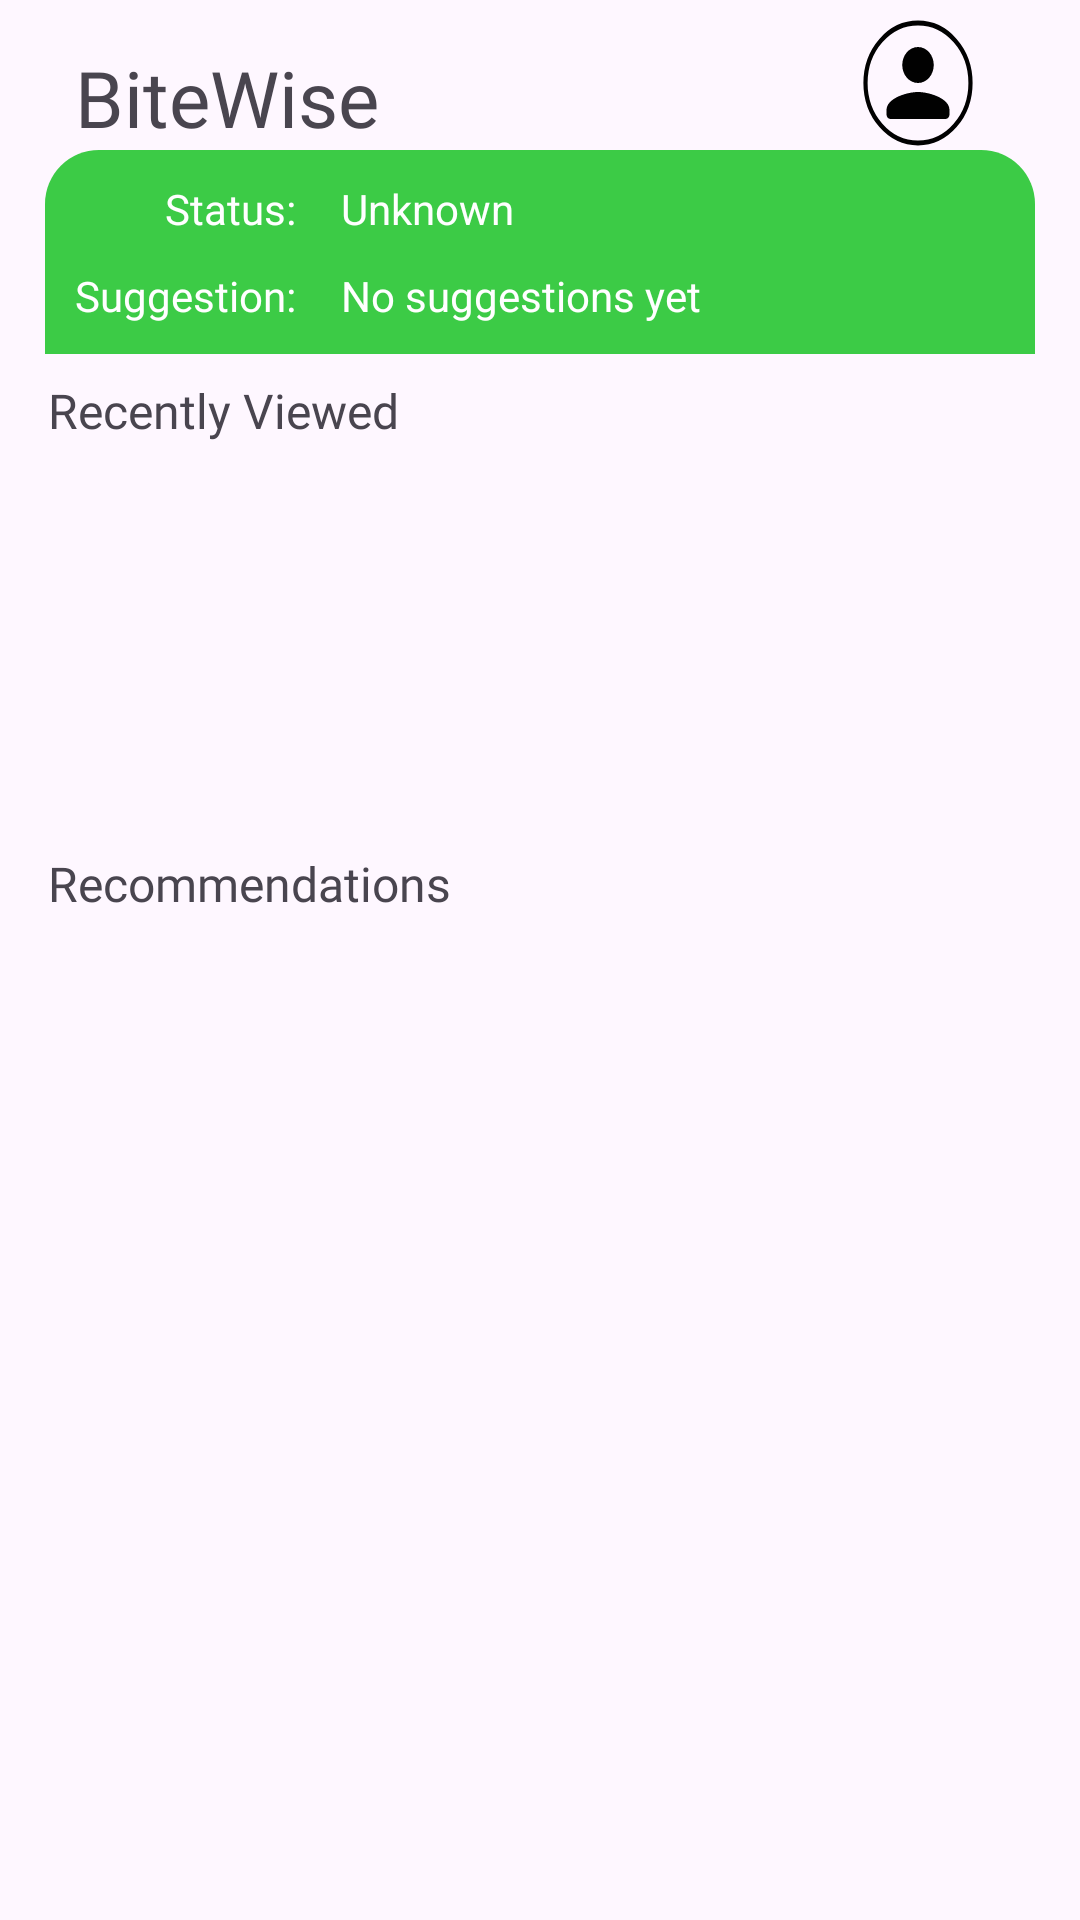

Named icons in this screenshot (1080*1920) and their centers, [x,y]:
user: [918,83]
